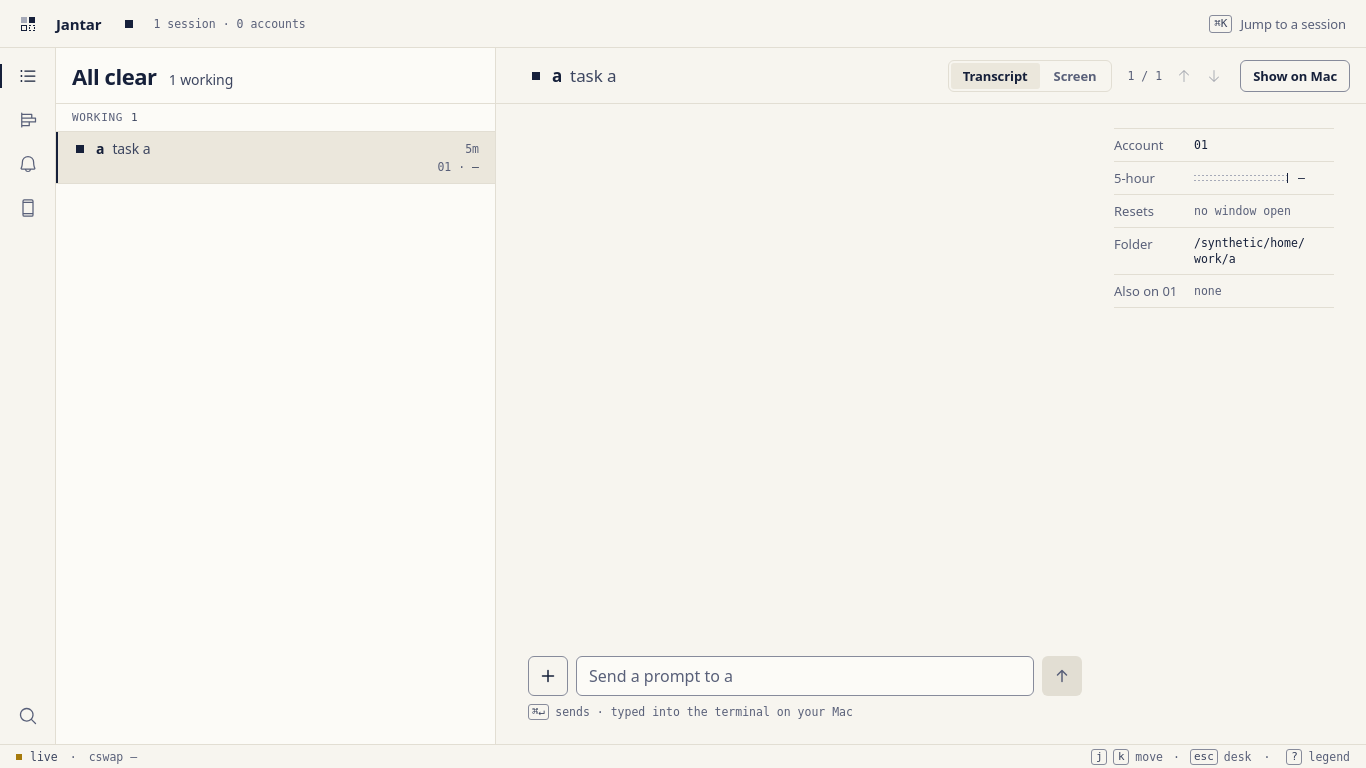
Test: the Screen tab with screenshots on (C8) › offers no tab switch to a device paired without the control scope (the daemon would answer 403)
Click the tab "Screen" at {"x": 1075, "y": 76}, box [1042,62,1108,88]
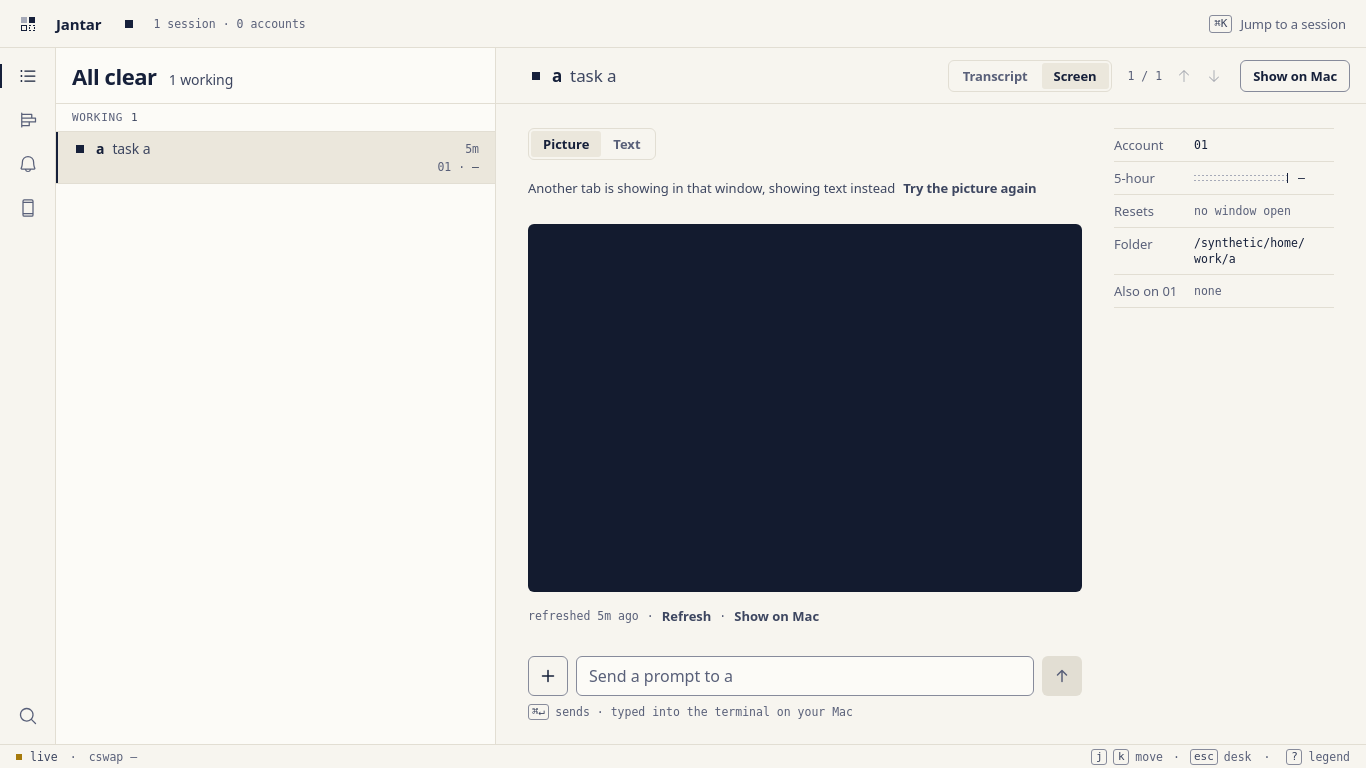
expect the button with aria-label "Show the screen as" is shown: met, box [528,128,656,160]
expect the text "Another tab is showing in that window, showing text instead" is shown: met, box [528,179,895,197]
expect the button "Try the picture again" is shown: met, box [895,176,1045,200]
